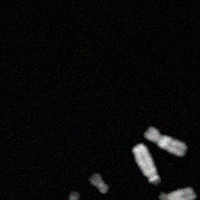chromosome: (143, 125, 186, 155), (132, 142, 160, 183), (160, 187, 196, 200), (89, 173, 109, 196), (65, 190, 81, 200)
